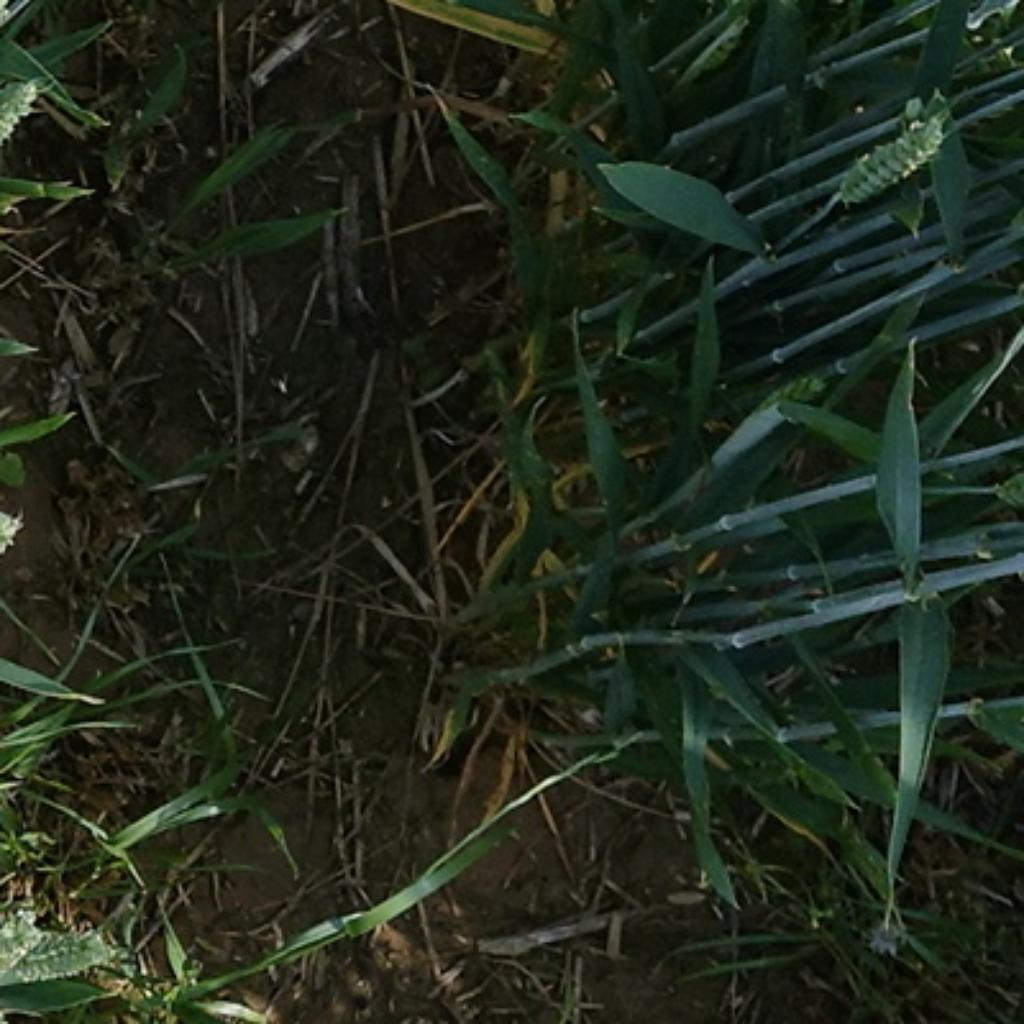0-0: (823, 114, 954, 209), (750, 362, 840, 436), (0, 922, 115, 979), (0, 74, 46, 158)
